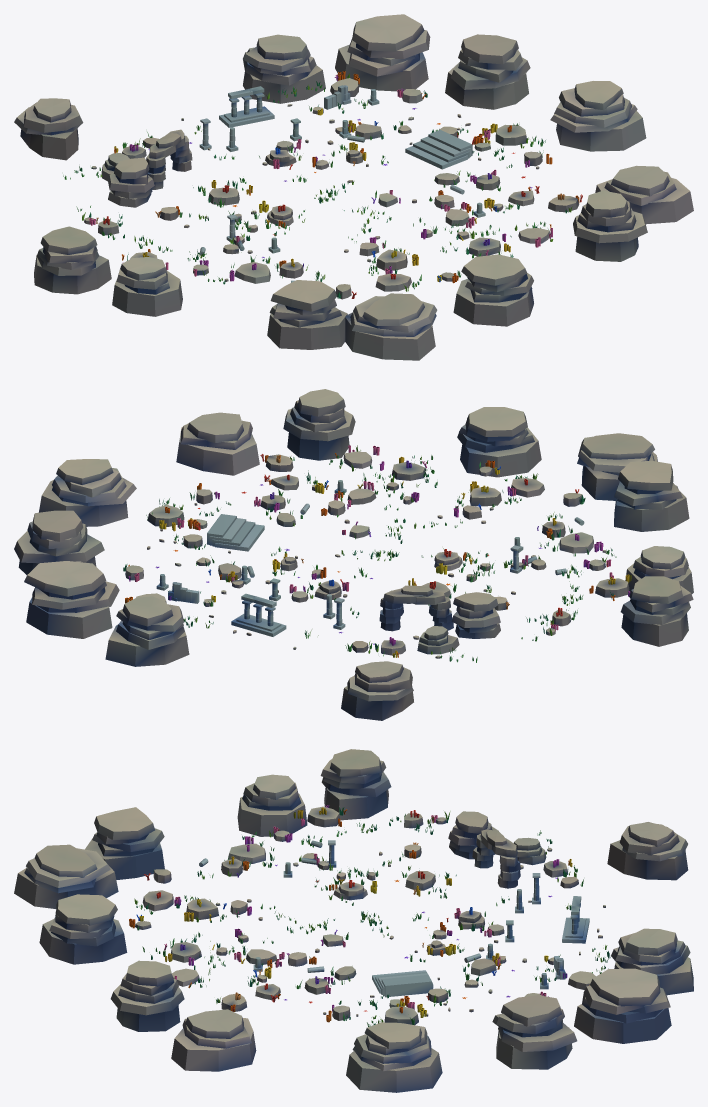
The model's file is turtle.glb.
3 views of the same model, one above another, from view 1: azimuth 30°, elevation 25°; view 2: azimuth 150°, elevation 25°; view 3: azimuth 270°, elevation 25° (orthographic).
Visible parts, largest first — view 1: rock_4_3, rock_6_5, rock_3_4, rock_5_3, rock_5_6, rock_6_4, rock_4_5, rock_6_6, rock_5_5, rock_6_3, rock_4_4, rock_4_6 (+8 smaller); view 2: rock_6_5, rock_4_3, rock_5_6, rock_5_3, rock_4_5, rock_3_4, rock_6_6, rock_6_4, rock_5_5, rock_4_6, rock_4_4, rock_5_4 (+9 smaller); view 3: rock_4_3, rock_6_5, rock_3_4, rock_6_4, rock_6_6, rock_5_3, rock_4_5, rock_5_6, rock_6_3, rock_4_6, rock_5_5, rock_4_4 (+7 smaller).
Part boxes in pixels (x1=…): rock_4_3: x1=272, y1=255, x2=481, y2=360; rock_6_5: x1=403, y1=34, x2=642, y2=151; rock_3_4: x1=34, y1=226, x2=228, y2=316; rock_5_3: x1=441, y1=195, x2=628, y2=326; rock_5_6: x1=219, y1=33, x2=377, y2=127; rock_6_4: x1=524, y1=95, x2=689, y2=213; rock_4_5: x1=91, y1=118, x2=289, y2=227; rock_6_6: x1=339, y1=14, x2=430, y2=91; rock_5_5: x1=276, y1=85, x2=476, y2=182; rock_6_3: x1=576, y1=183, x2=693, y2=261; rock_4_4: x1=199, y1=205, x2=406, y2=283; rock_4_6: x1=17, y1=98, x2=231, y2=160; rock_6_5: x1=17, y1=459, x2=207, y2=580; rock_4_3: x1=484, y1=421, x2=676, y2=531; rock_5_6: x1=76, y1=573, x2=285, y2=666; rock_5_3: x1=300, y1=392, x2=538, y2=480; rock_4_5: x1=323, y1=581, x2=515, y2=658; rock_3_4: x1=589, y1=546, x2=693, y2=646; rock_6_6: x1=14, y1=541, x2=115, y2=638; rock_6_4: x1=112, y1=412, x2=291, y2=514; rock_5_5: x1=131, y1=514, x2=340, y2=606; rock_4_6: x1=271, y1=624, x2=410, y2=720; rock_4_4: x1=434, y1=487, x2=593, y2=581; rock_5_4: x1=260, y1=459, x2=412, y2=538; rock_4_3: x1=14, y1=811, x2=198, y2=919; rock_6_5: x1=362, y1=994, x2=573, y2=1092; rock_3_4: x1=237, y1=749, x2=388, y2=841; rock_6_4: x1=185, y1=993, x2=396, y2=1092; rock_6_6: x1=552, y1=968, x2=671, y2=1057; rock_5_3: x1=39, y1=894, x2=200, y2=986; rock_4_5: x1=379, y1=811, x2=568, y2=919; rock_5_6: x1=562, y1=896, x2=693, y2=995; rock_6_3: x1=110, y1=965, x2=198, y2=1070; rock_4_6: x1=561, y1=822, x2=688, y2=907; rock_5_5: x1=372, y1=914, x2=565, y2=1002; rock_4_4: x1=189, y1=840, x2=377, y2=920.
Size of the model in its own units: 183 by 14.41 by 173.
